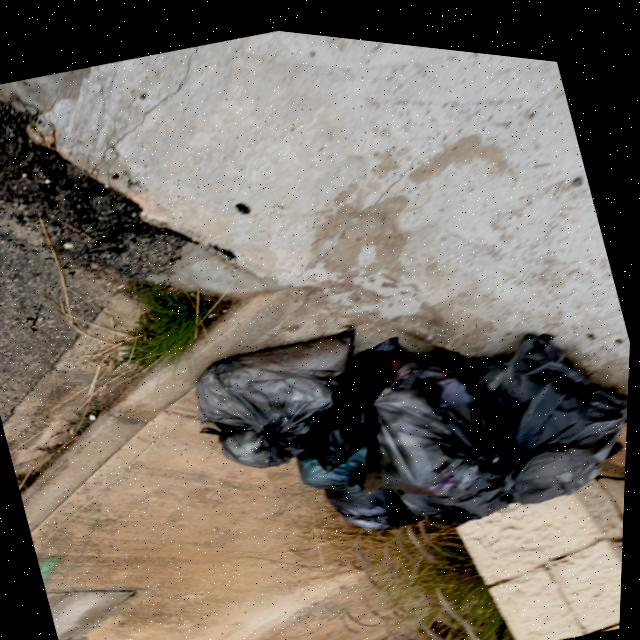Mixed Waste -Black Bag-: (326, 304, 514, 542), (451, 290, 634, 508), (187, 306, 388, 488), (289, 406, 394, 497), (322, 452, 428, 538)
